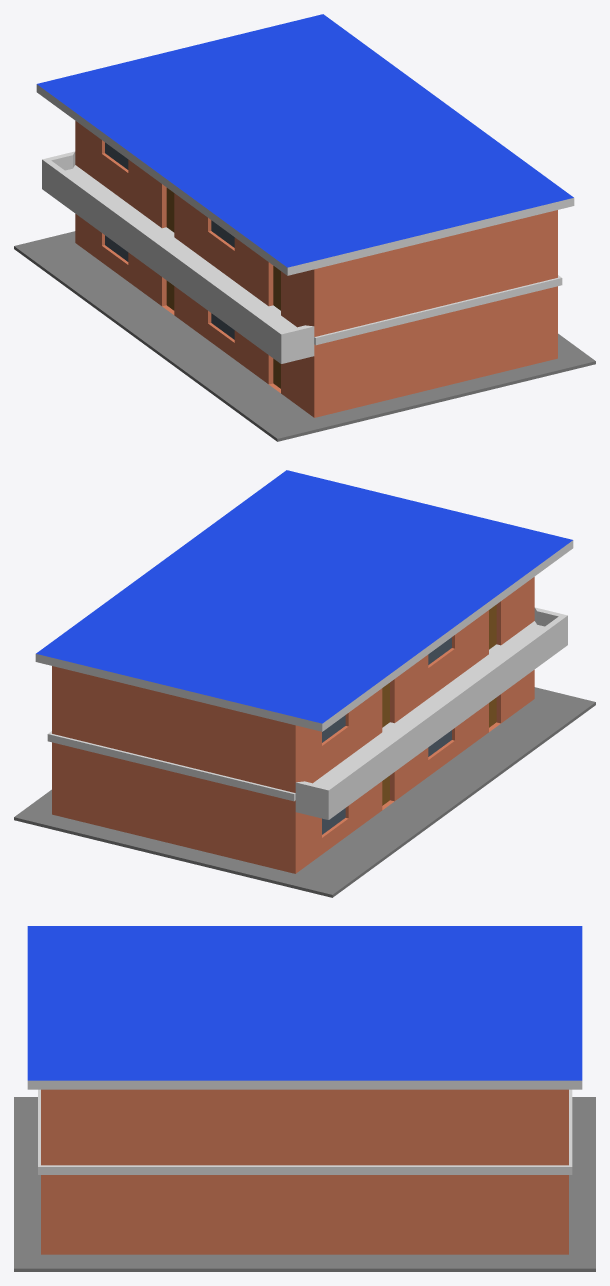
The model's file is grande.gltf.
3 views of the same model, one above another, from view 1: azimuth 30°, elevation 25°; view 2: azimuth 150°, elevation 25°; view 3: azimuth 270°, elevation 25° (orthographic). The views are drawn at different scales.
Visible parts, largest first — view 1: Plane; view 2: Plane; view 3: Plane.
Boxes of the visible parts, box(x1,y1,x2,y2) form: Plane: box(14, 14, 595, 441); Plane: box(14, 470, 595, 897); Plane: box(14, 926, 595, 1271).
Bounding box in the file's own units: 17.71 × 8.8 × 25.37.
